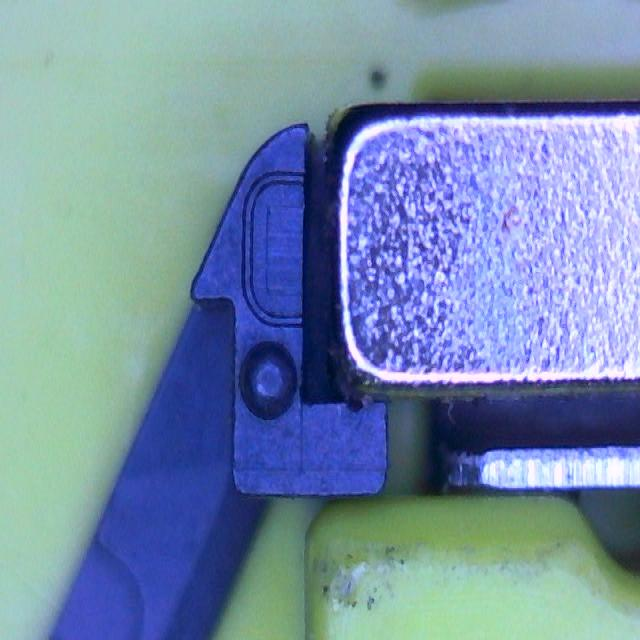noResin: (239, 168, 309, 329)
